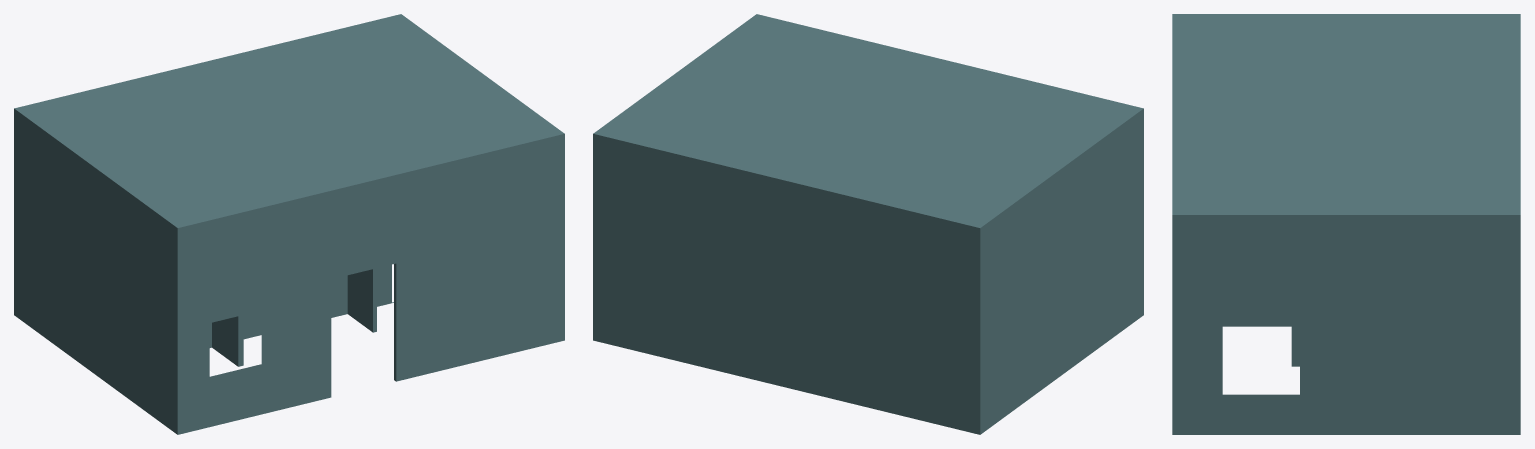
3 renders of one model, left to right at view 1: azimuth 30°, elevation 25°; view 2: azimuth 150°, elevation 25°; view 3: azimuth 270°, elevation 25°, orthographic. The views are drawn at different scales.
Parts seen in each view (by area): view 1: Cube.003; view 2: Cube.003; view 3: Cube.003.
Boxes of the visible parts, left/top/right/bottom form: Cube.003: left=14, top=14, right=564, bottom=434; Cube.003: left=593, top=14, right=1143, bottom=434; Cube.003: left=1172, top=14, right=1520, bottom=434.
Size of the model in its own units: 85.05 by 43.42 by 62.25.
